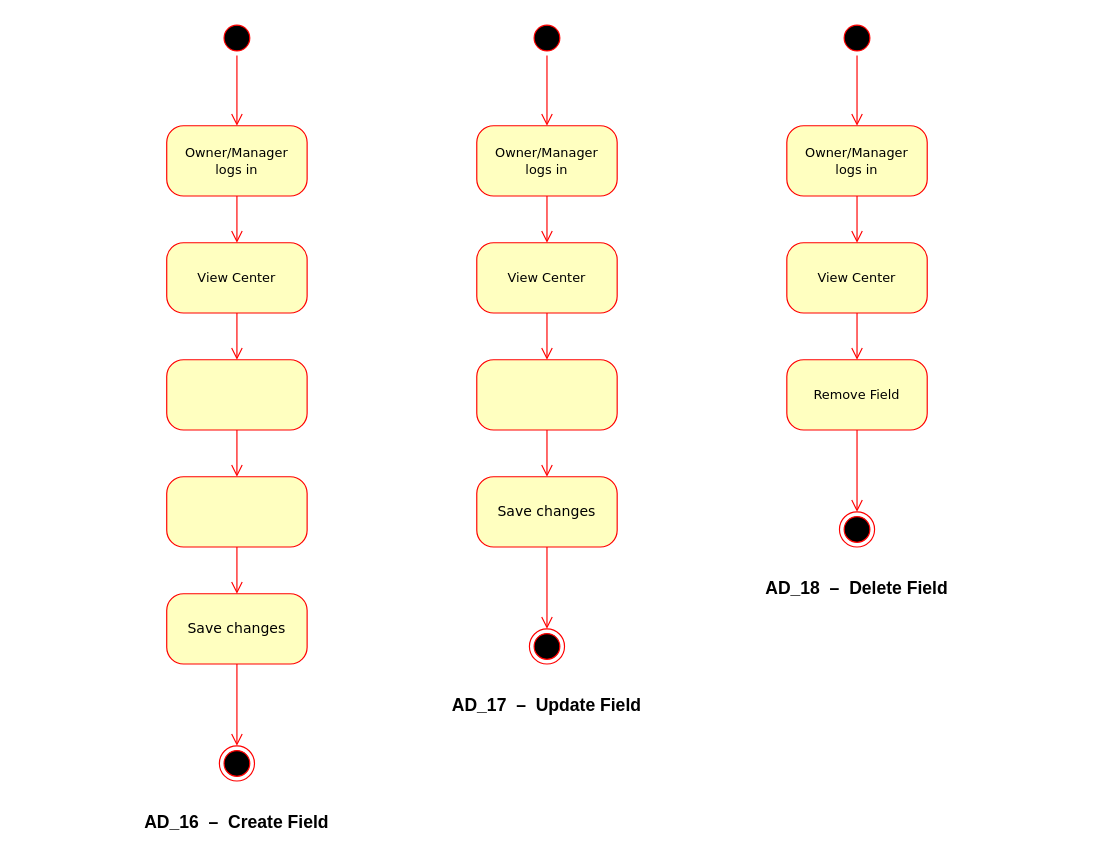
The diagram is 1093 pixels wide and 860 high, and some of its shapes have lost their labels. The centre of each missing label's shape, as x and y in pixels:
Add Field's data: (x=236, y=511)
Create Field: (x=236, y=394)
Edit Field's data: (x=546, y=394)
